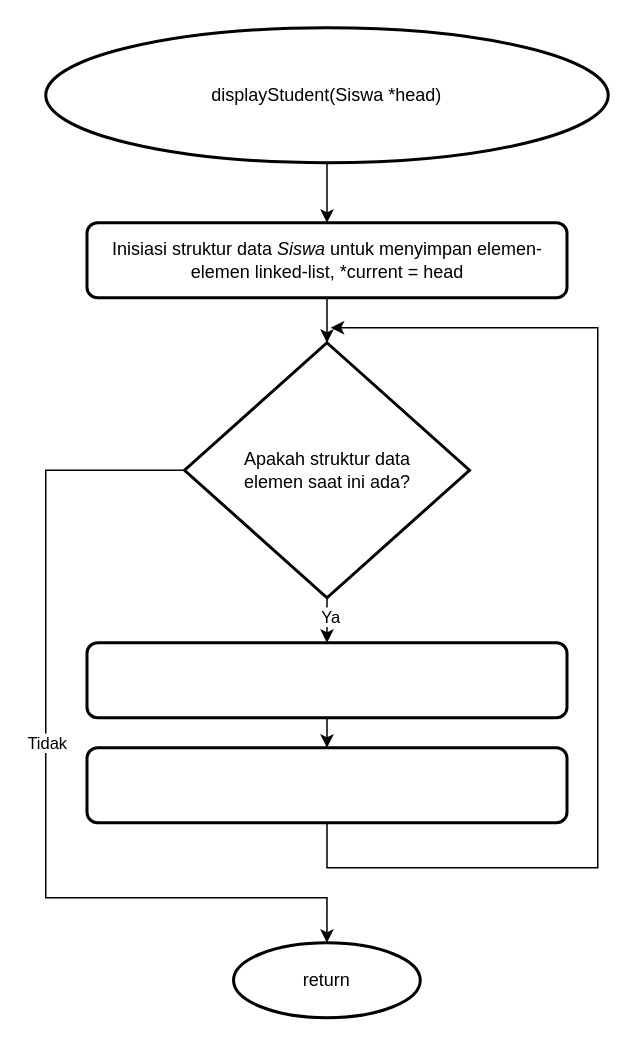
The diagram is 636 pixels wide and 1044 high, and some of its shapes have lost their labels. The shapes that lost their labels are listed below. From the top down, each one's box as (x1, y1, x2, y2) in pixels, then its label:
(85, 640, 568, 718): Tampilkan semua data mahasiswa pada elemen linked-list saat ini
(85, 746, 568, 824): Akses elemen linked-list berikutnya
